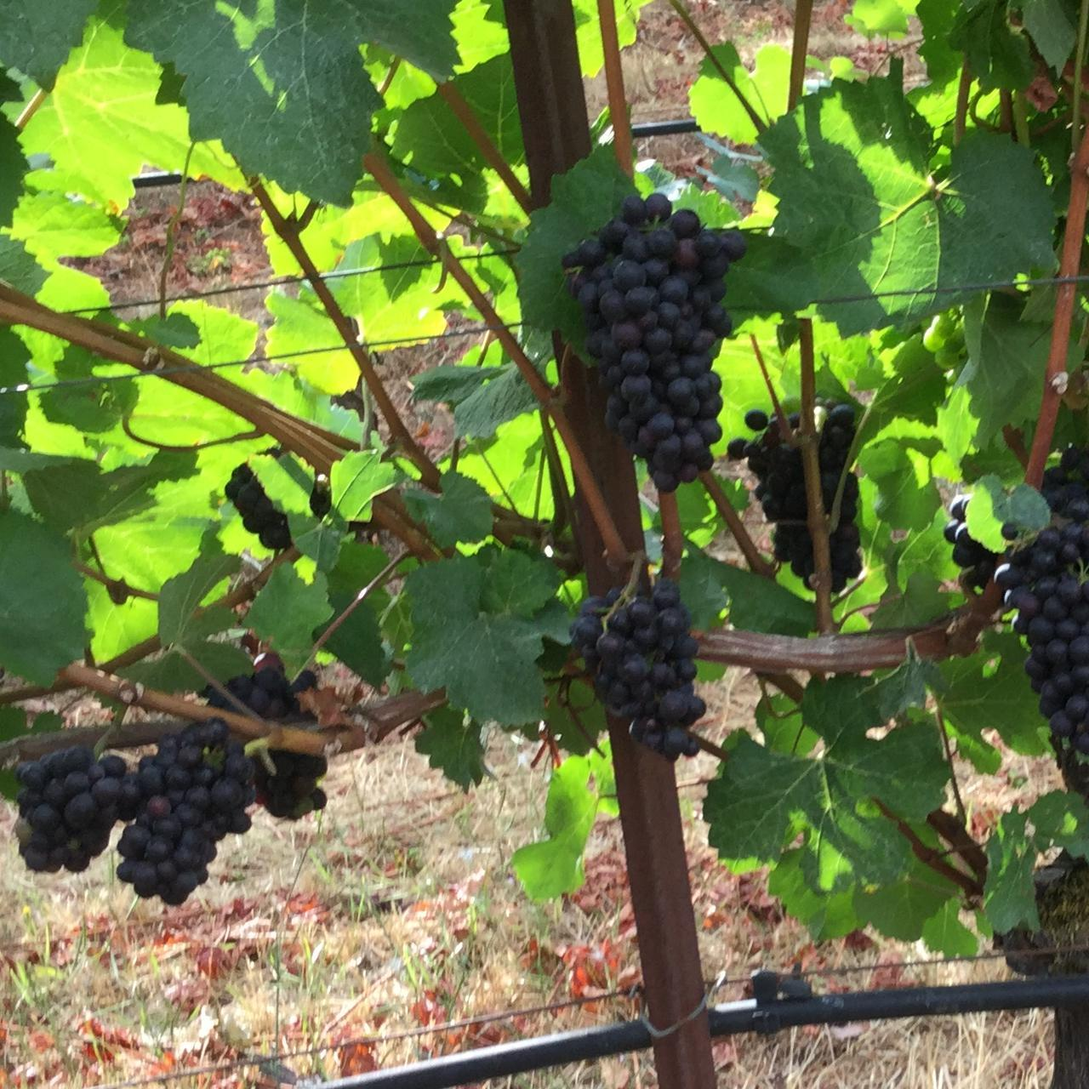Grape Ripe: (562, 194, 745, 491), (185, 606, 405, 830), (726, 371, 915, 626), (573, 558, 724, 785), (117, 719, 255, 905), (1021, 479, 1089, 757), (5, 743, 137, 844)
